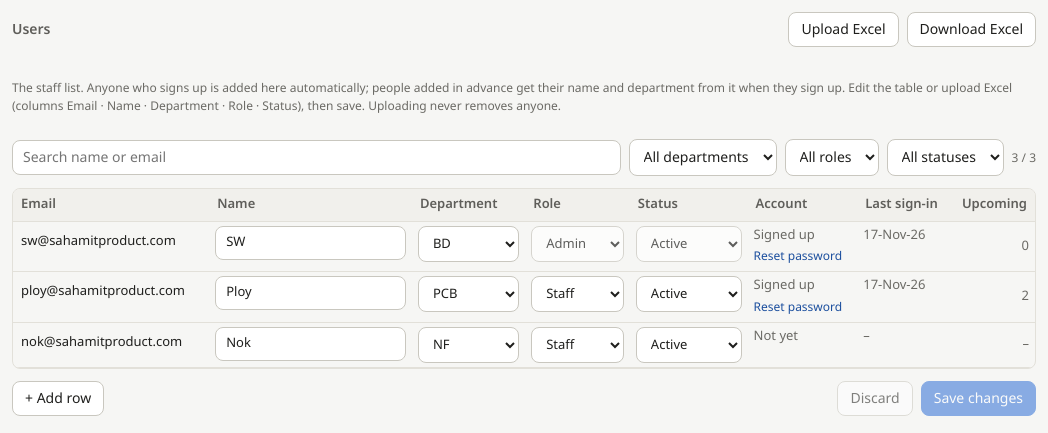
Test: UserTable › filters by department
The width and height of the screenshot is (1048, 433).
Expected: the field showing "Ploy" next to "ploy@sahamitproduct.com" is shown, [215,276,406,310]
Select "NF" in the dropdown named "Filter by department" at (702,158), box [628,139,776,176]
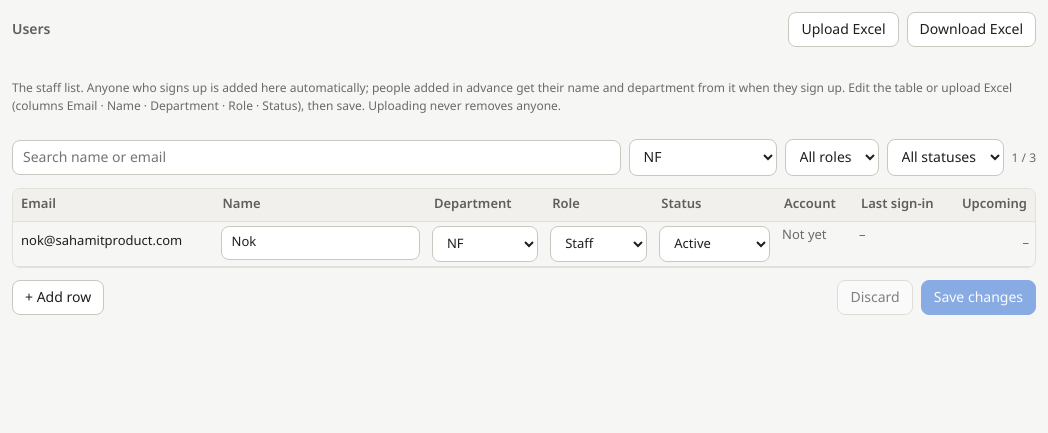
Expected: the field showing "Nok" is shown, [220,226,420,260]
Expected: the text showing "Ploy" is gone
